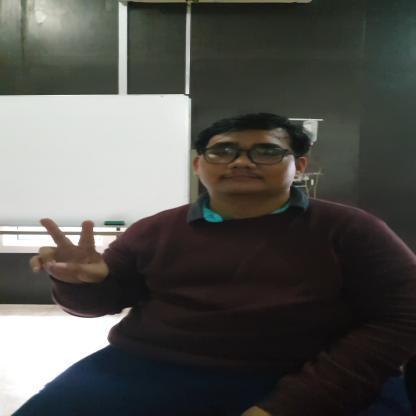V: (28, 218, 110, 284)
